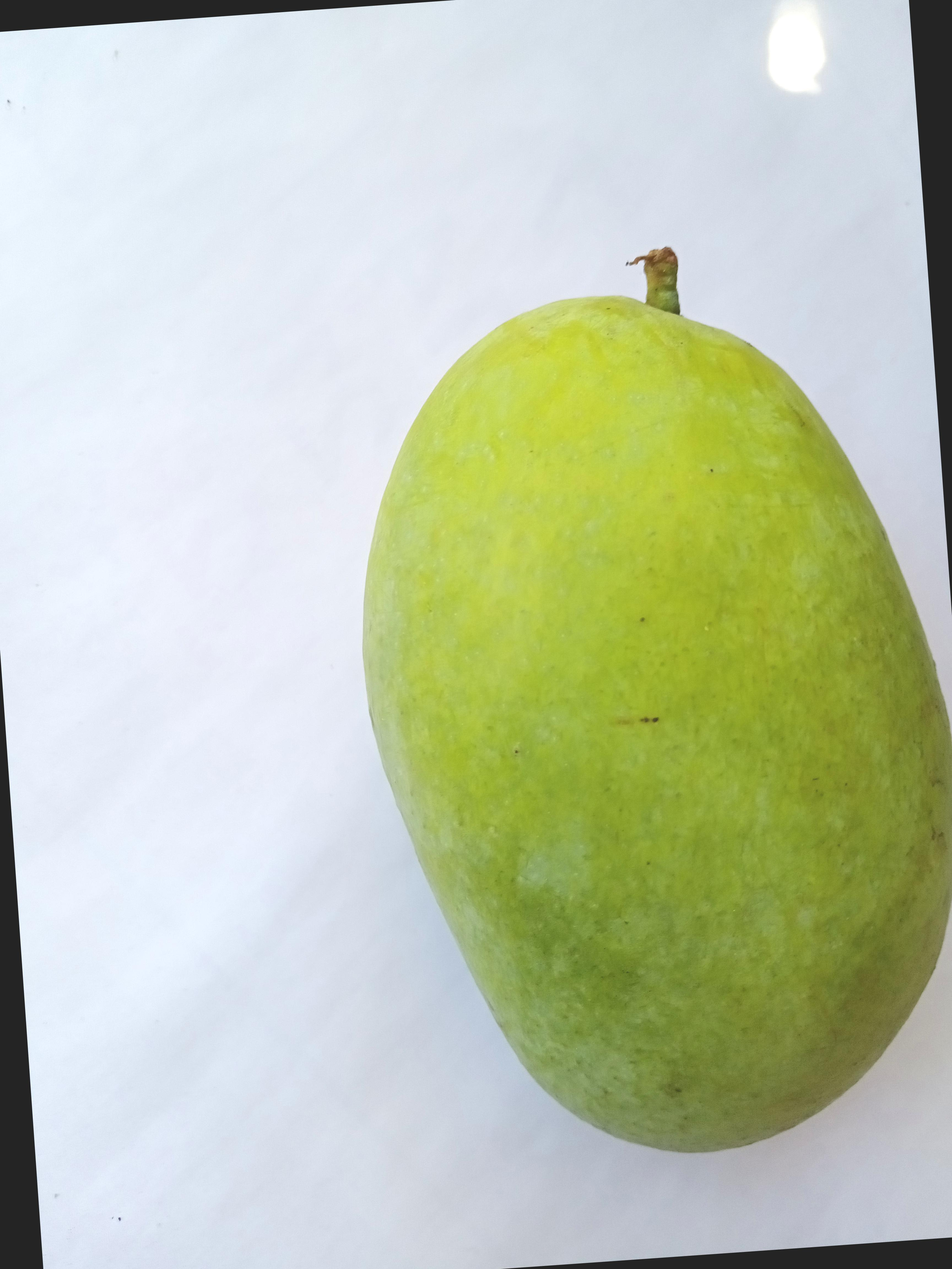Mango Unripe: (238, 243, 935, 1237)
